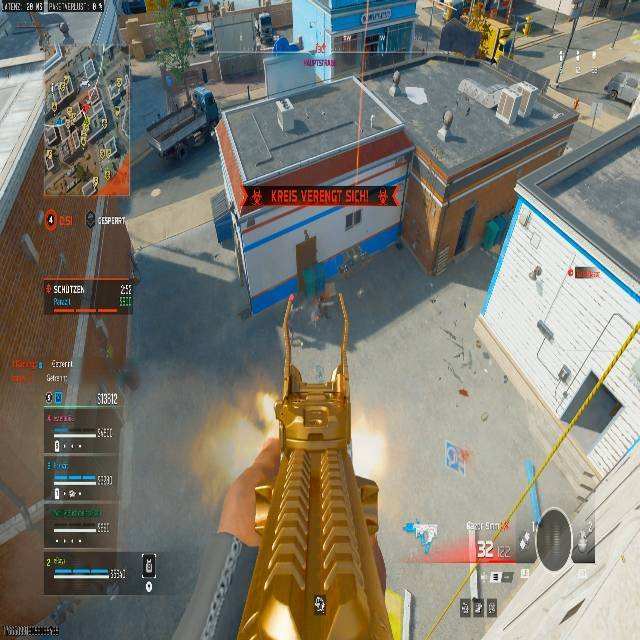player: (465, 0, 522, 63)
